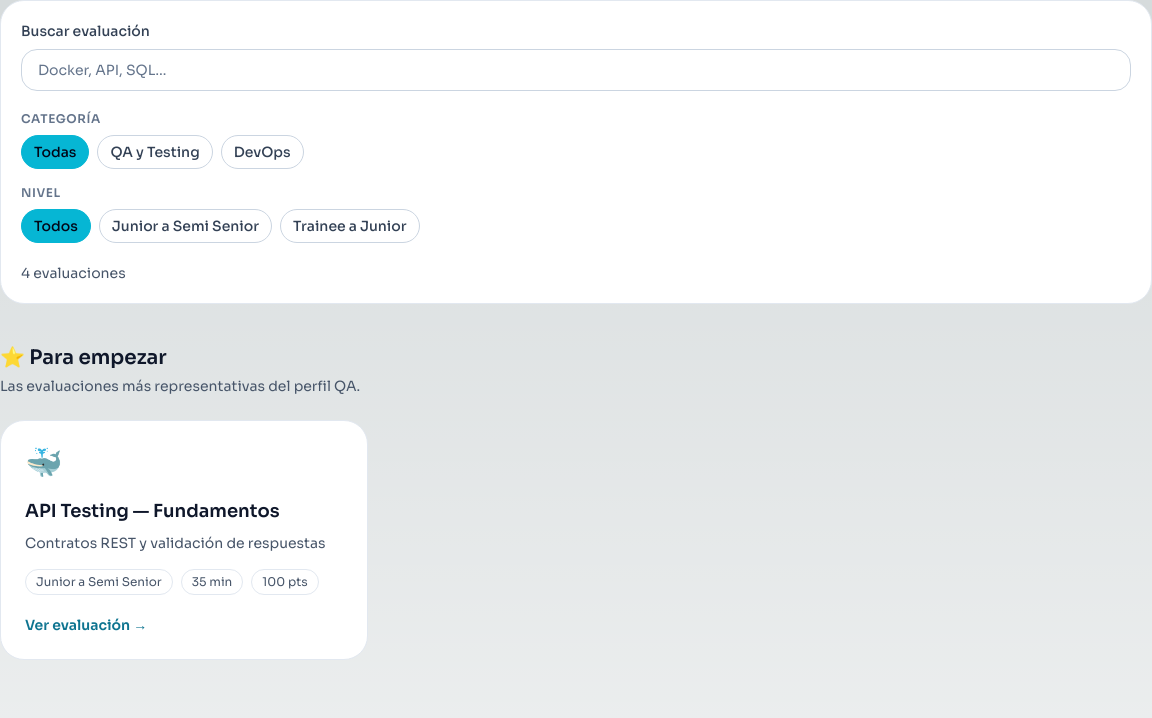
Test: buscador y filtros de /assessments › esconde los destacados mientras hay un filtro activo
Expected: the heading "⭐ Para empezar" is shown, [0,345,167,370]
Step 1. Click the button "QA y Testing" → {"x": 155, "y": 152}, box [98,135,213,169]
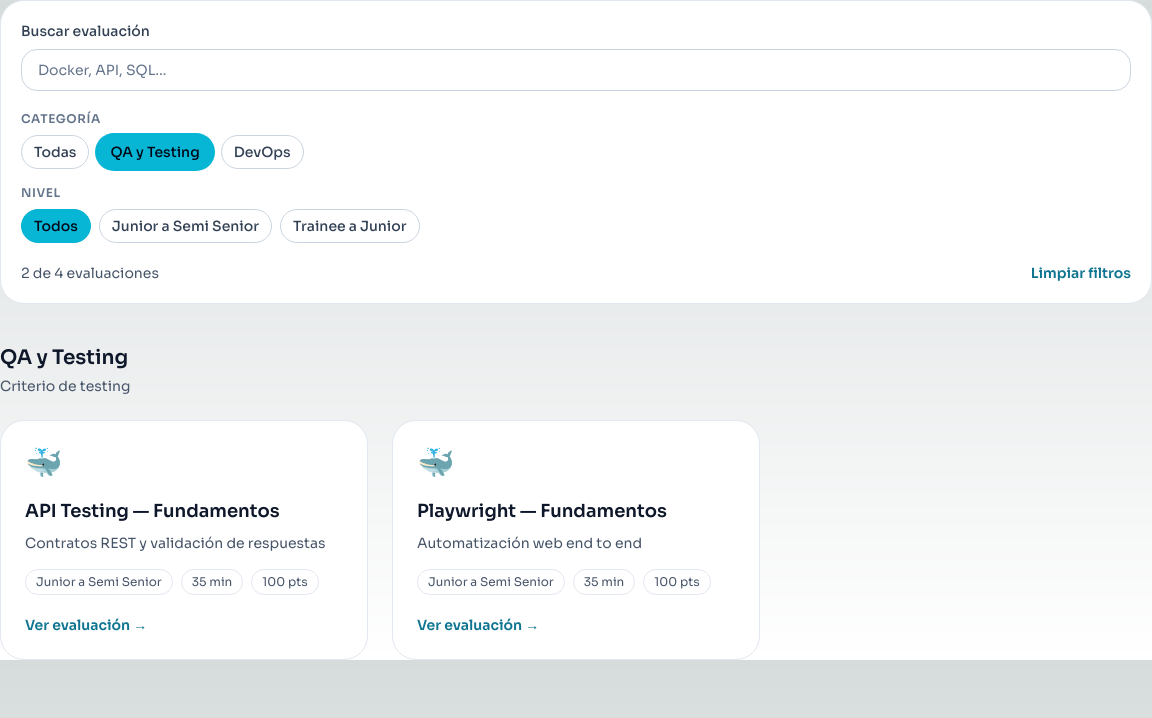
Expected: the heading "Para empezar" is gone
